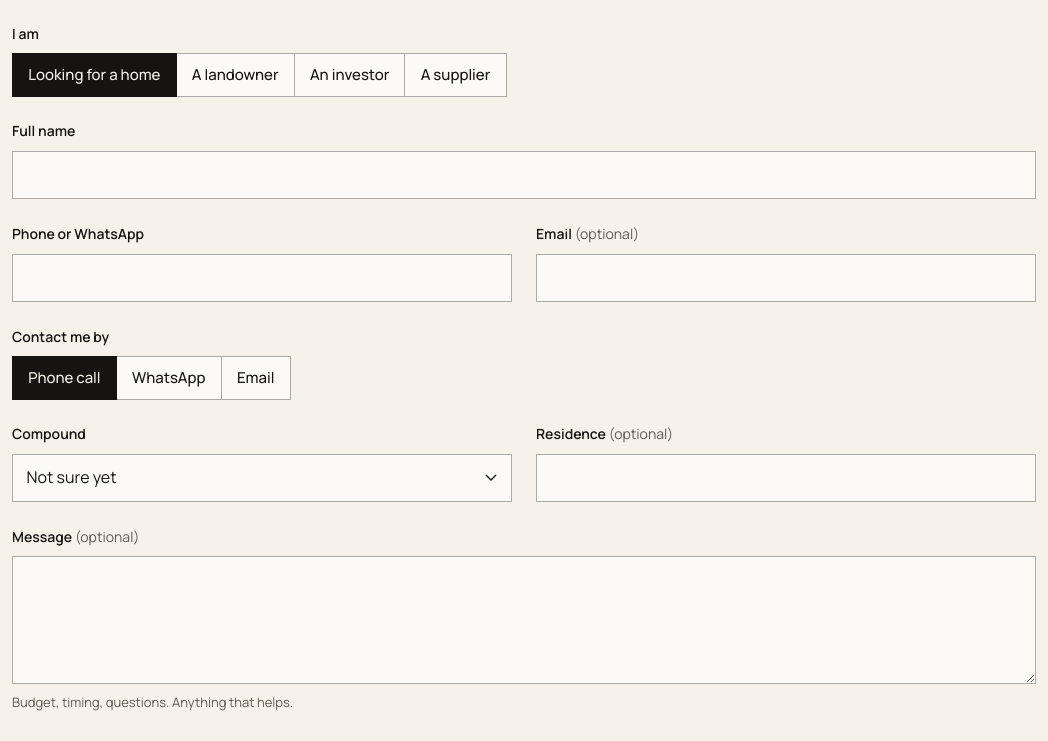
Test: ContactForm › never fakes success: a valid demo submission says nothing was sent, and can be edited
This screenshot has width=1048, height=741.
Step 1. Type "Zainab Ali" into the field labelled "Full name" → point(524, 175), box 12,151 -> 1036,199
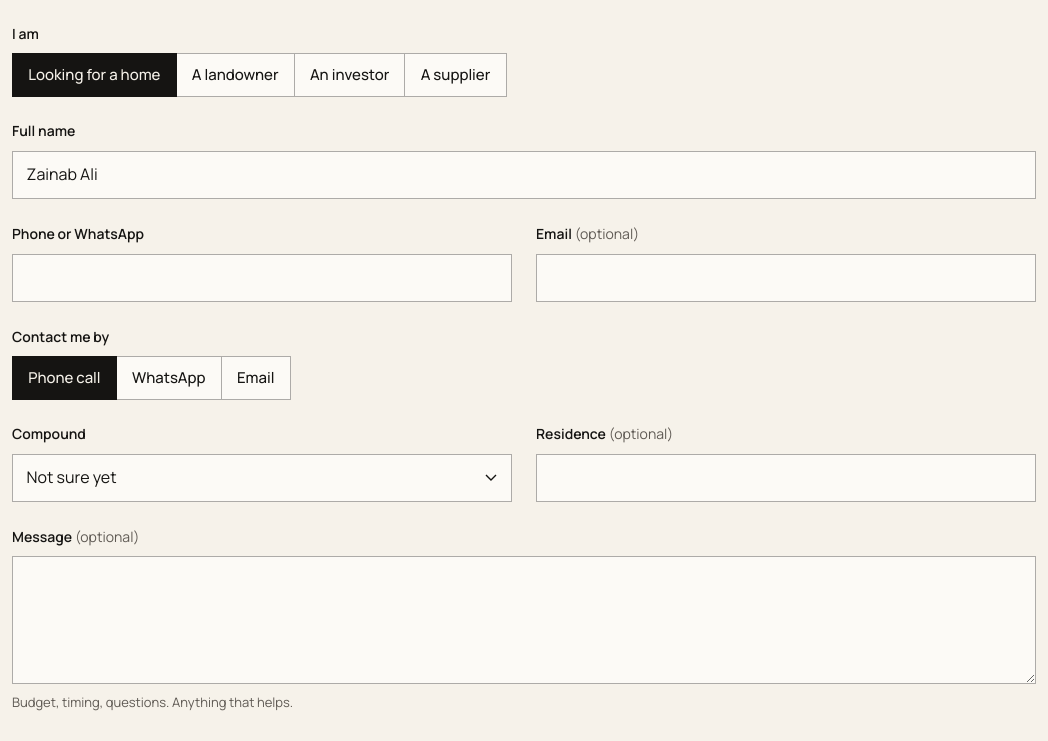
Step 2. Type "0770 123 4567" into the field labelled "Phone or WhatsApp" → point(262, 278), box 12,254 -> 512,302
(page scrolled)
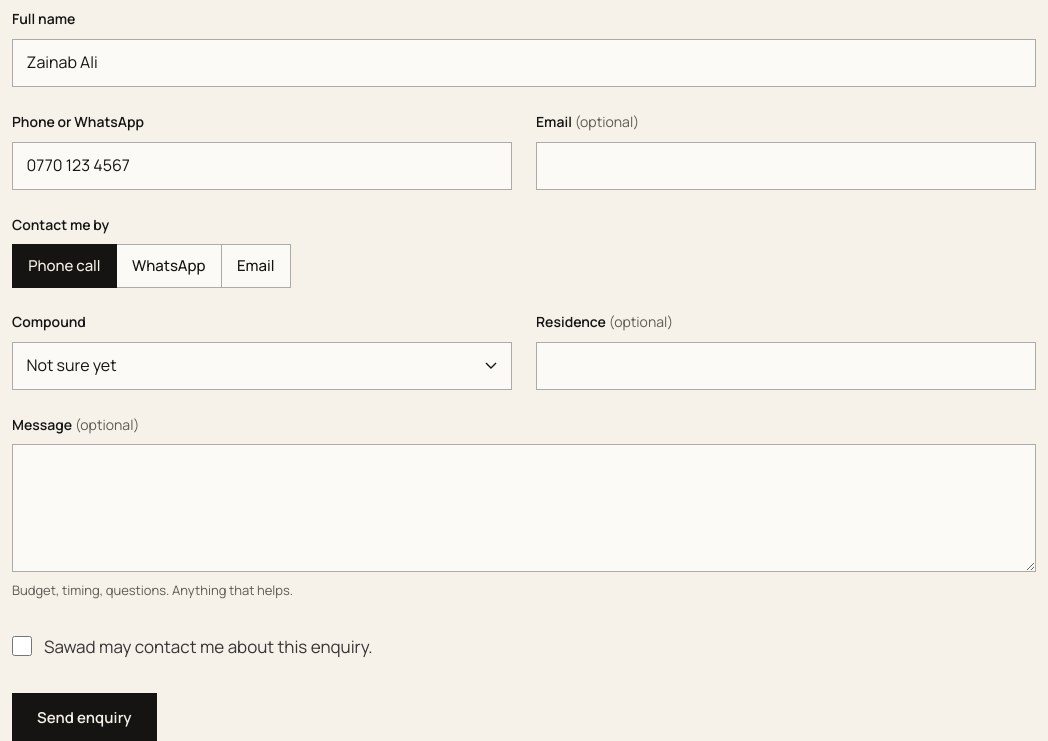
Step 3. Click the checkbox → point(22, 646), box 12,636 -> 32,656
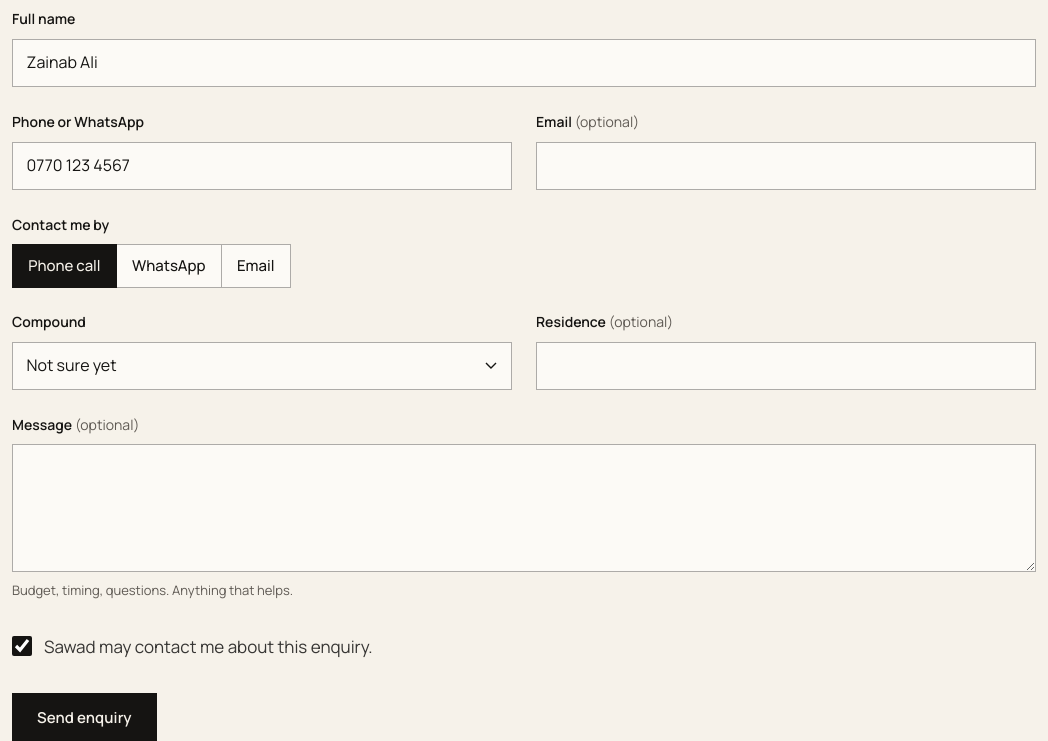
Step 4. Click the button "Send enquiry" → point(84, 717), box 12,693 -> 157,740
(page scrolled)
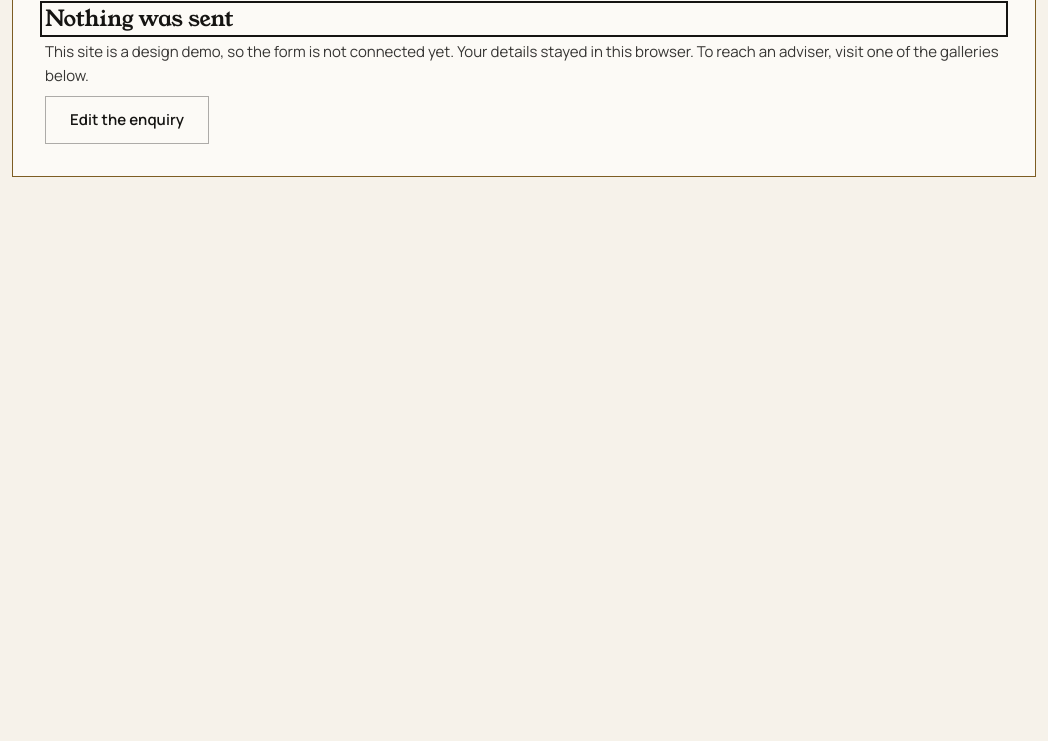
expect the heading "Nothing was sent" is shown: met, box 45,3 -> 233,34
Step 5. Click the button "Edit the enquiry" → point(127, 120), box 45,96 -> 209,144
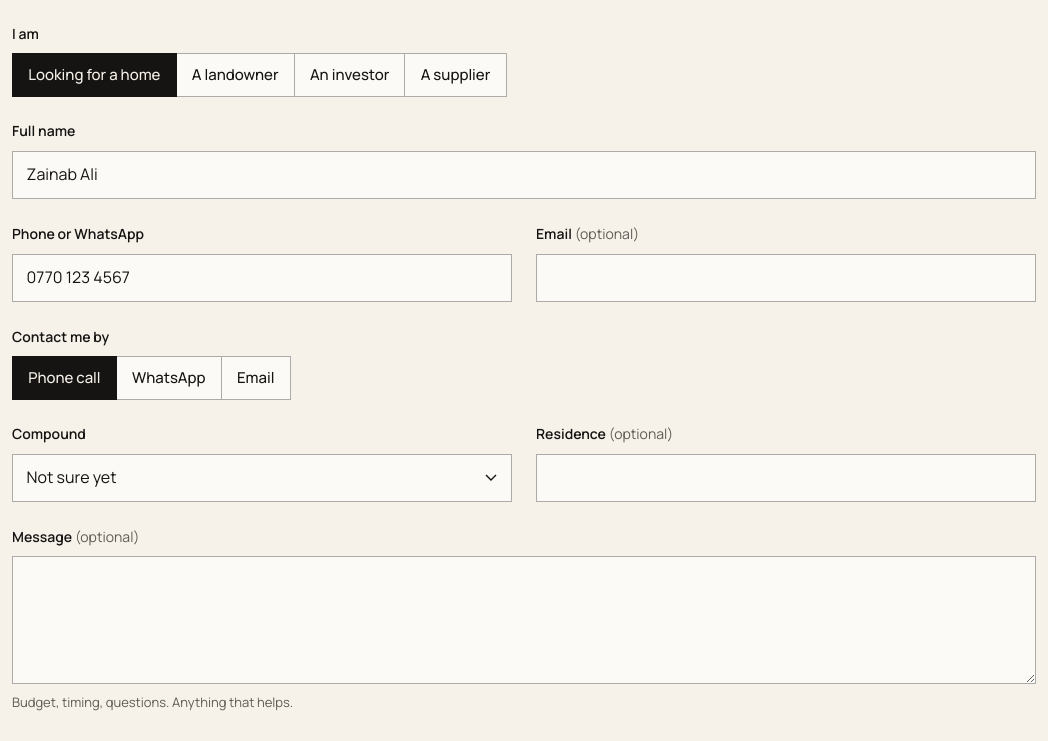
expect the field labelled "Full name" holds "Zainab Ali": met, box 12,151 -> 1036,199
